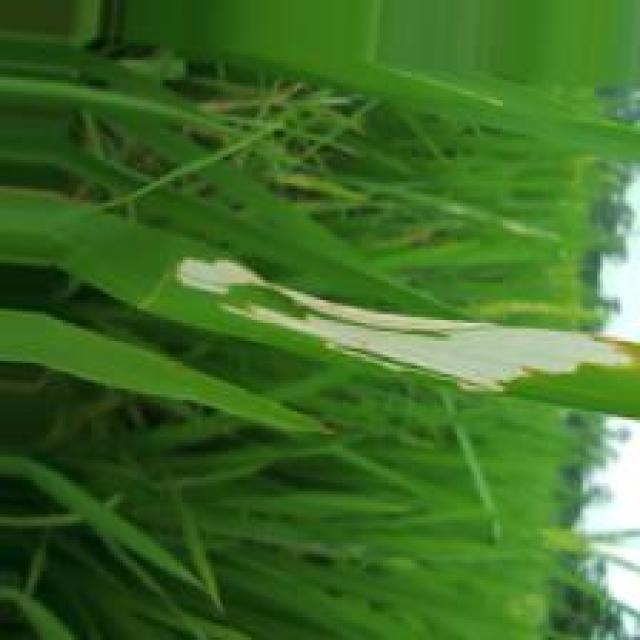Rice_Hispa: (213, 289, 640, 397), (182, 256, 270, 297)
